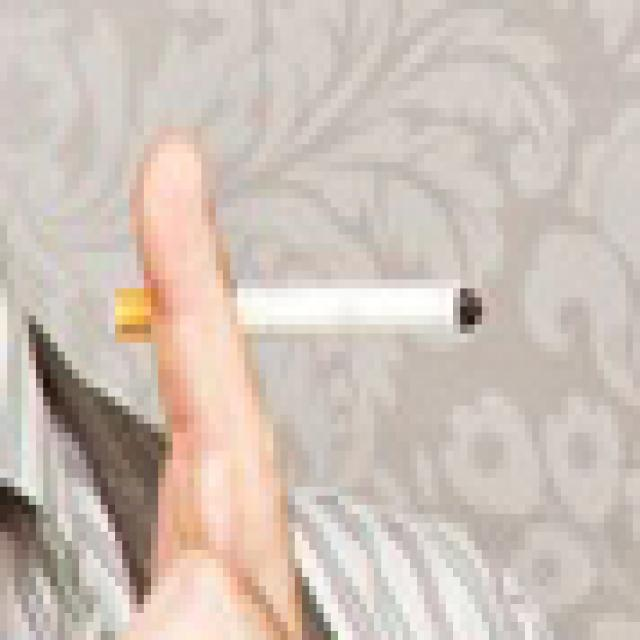smoking: (112, 286, 478, 342)
